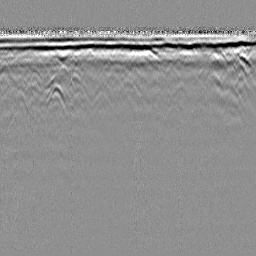cavity: (117, 75, 138, 93)
